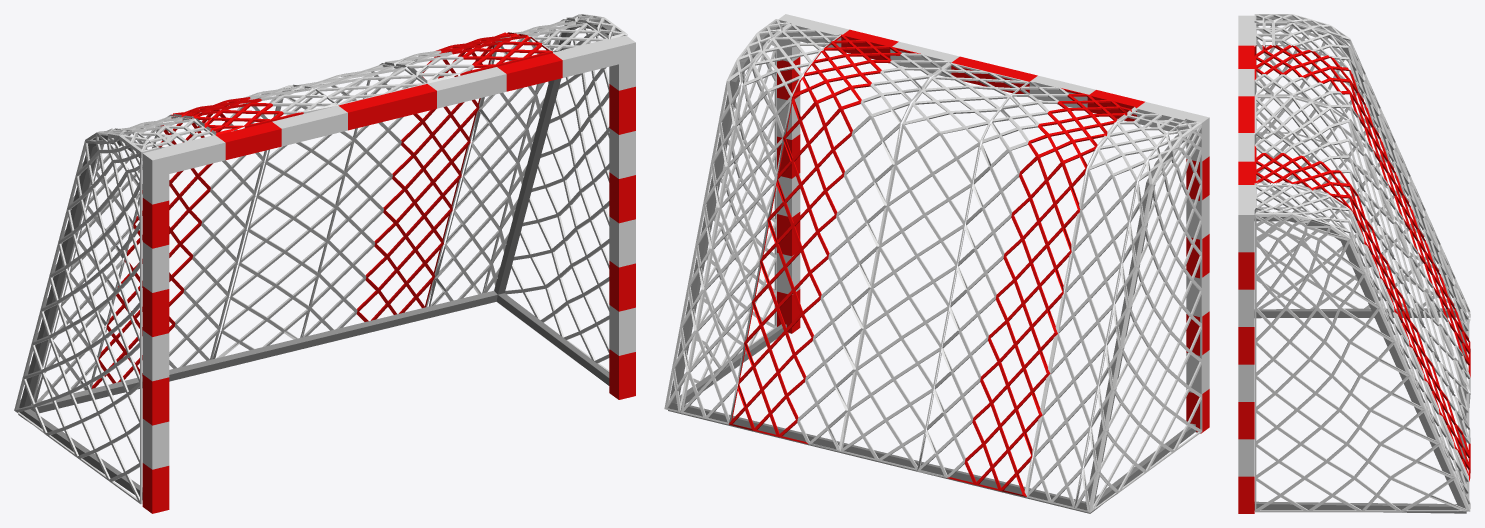
File: prop_goal.glb
The picture shows the model from 3 angles, left to right: view 1: azimuth 30°, elevation 25°; view 2: azimuth 150°, elevation 25°; view 3: azimuth 270°, elevation 25°; orthographic projection. The views are drawn at different scales.
Parts seen in each view (by area): view 1: Goal; view 2: Goal; view 3: Goal.
Part boxes in pixels (x1=…): Goal: x1=14, y1=14, x2=635, y2=513; Goal: x1=664, y1=14, x2=1209, y2=513; Goal: x1=1238, y1=14, x2=1470, y2=513.
Bounding box in the file's own units: 2.88 × 2.01 × 1.41.
1 material, 1 textured.
